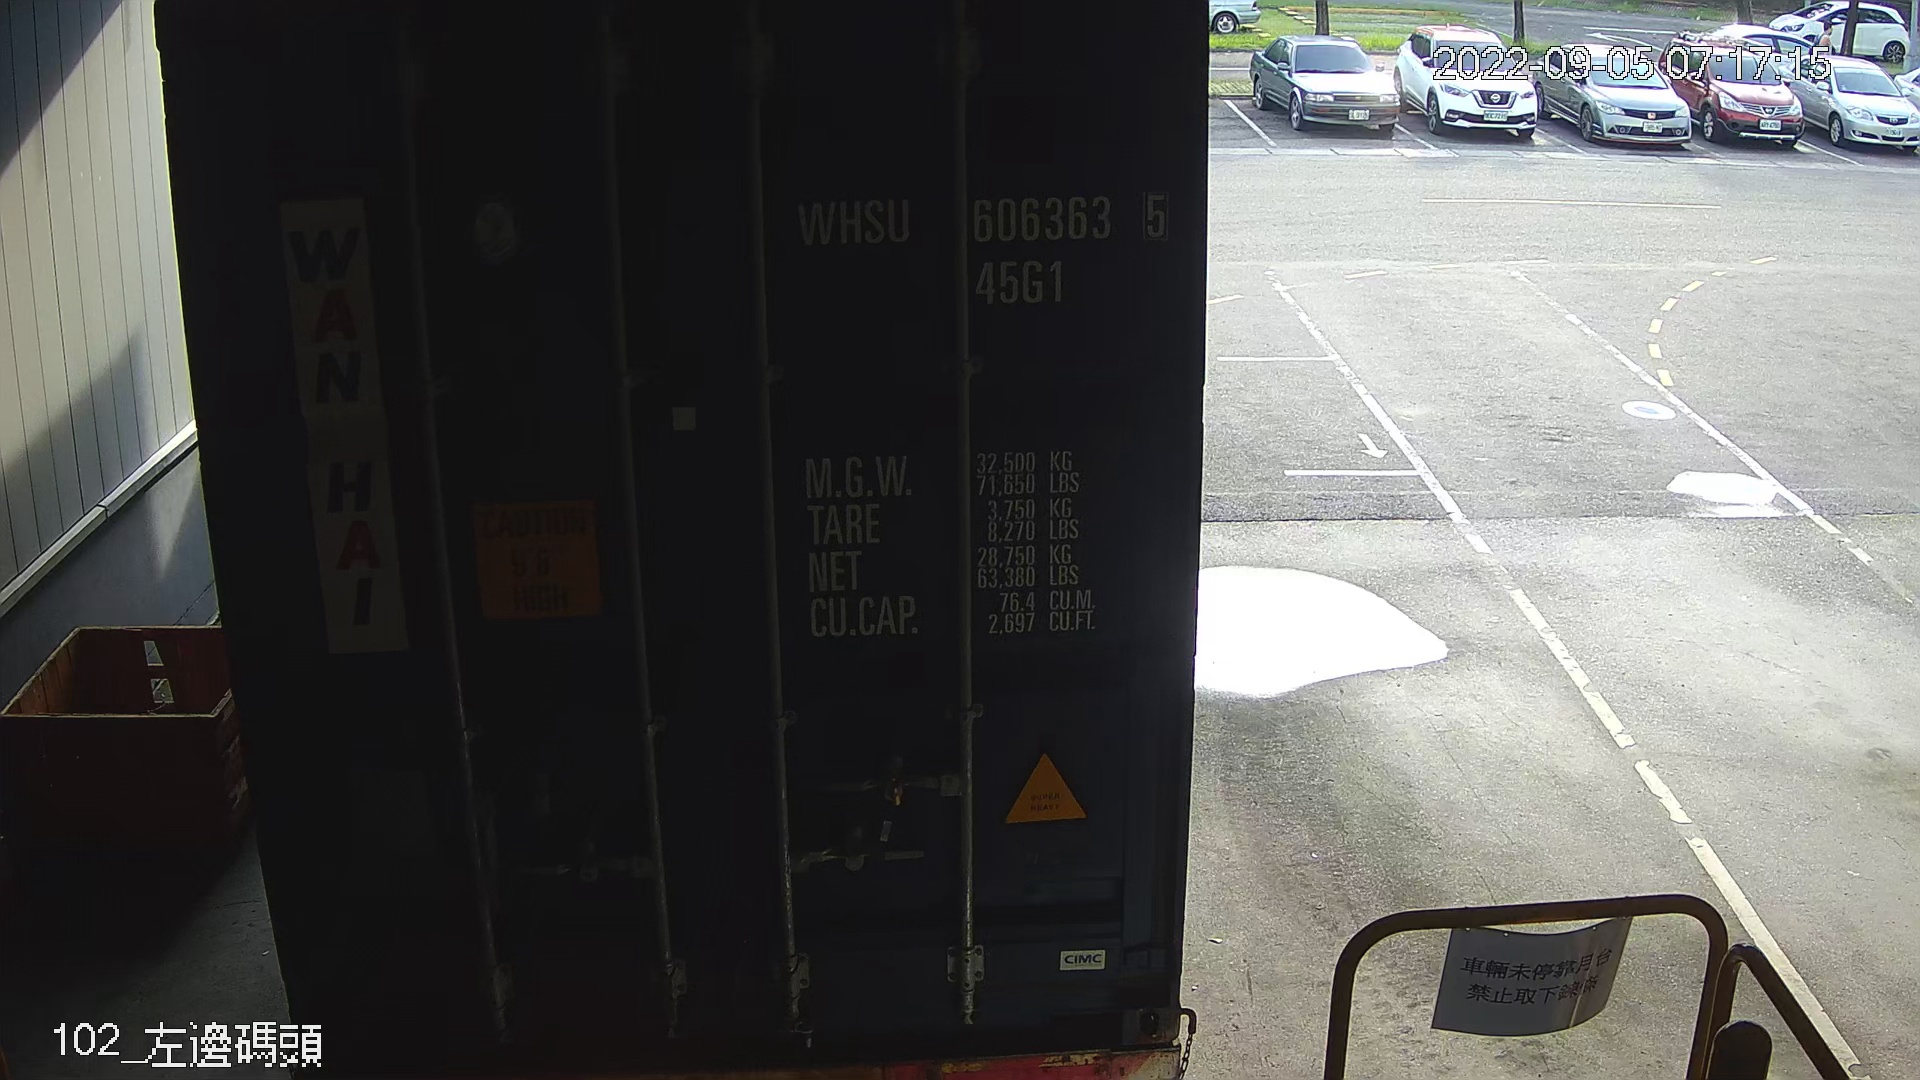container: (785, 179, 1182, 319)
